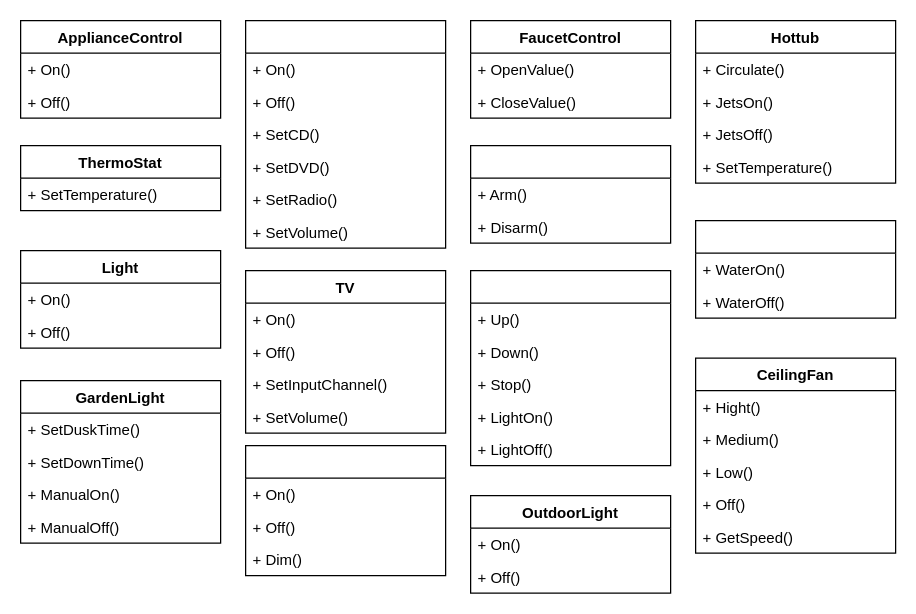
This 916x614 diagram has some shape labels left out. The shapes that lost their labels are listed below. From the top down, each one's box as (x1, y1, x2, y2) in pixels, then its label:
(244, 19, 446, 248): Stereo
(469, 144, 671, 243): SecurityControl
(694, 219, 896, 318): Sprinkler
(469, 269, 671, 466): GarageDoor
(244, 444, 446, 576): CeilingLight
